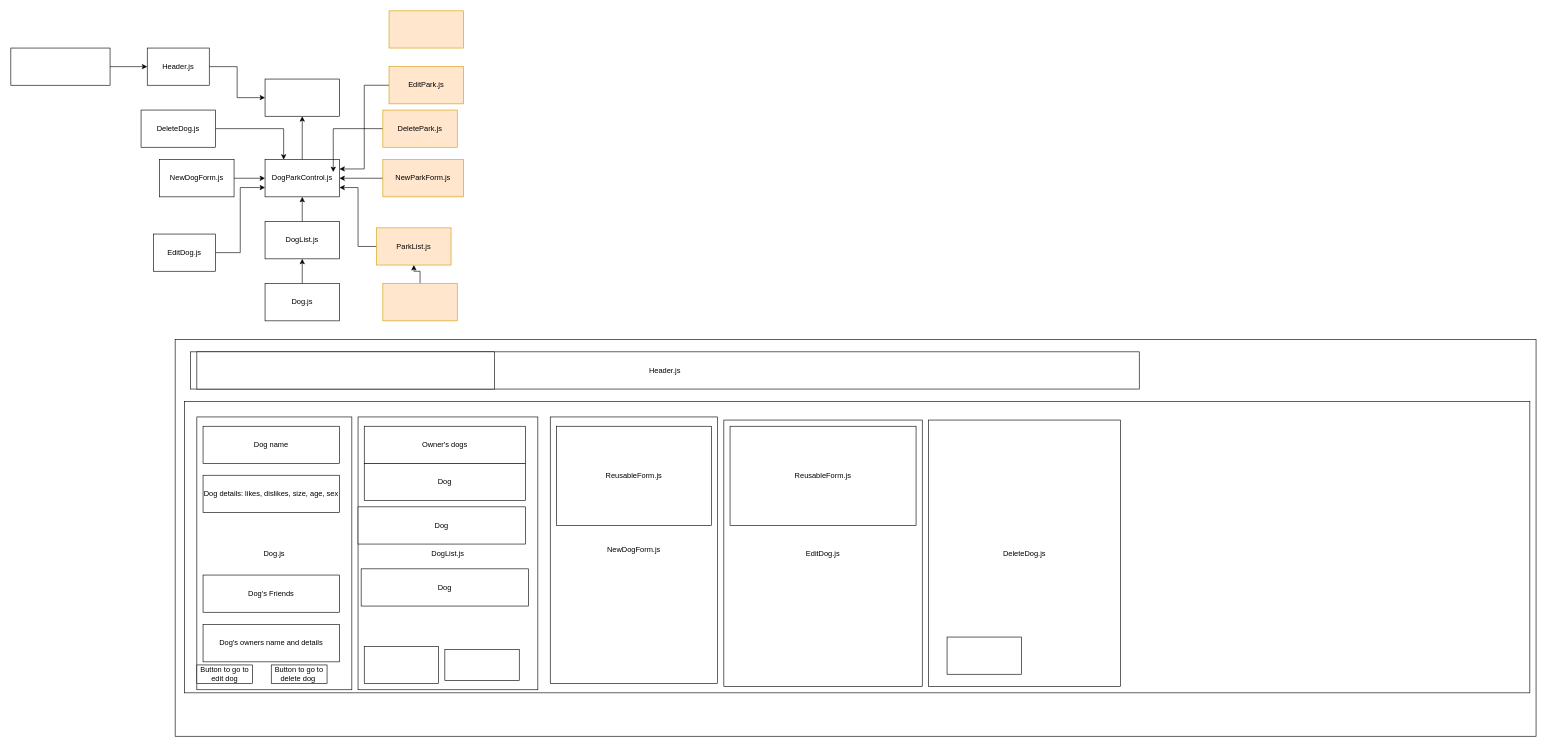
Some shapes in this 1547 by 747 pixel diagram are drawn without their labels. Each missing label, with the centre of its shape:
"App.js" belongs at point 301,97.
"Button that lets you delete your dog's profile" belongs at point 983,655.
"Button to add dog" belongs at point 481,664.
"Button to check into park" belongs at point 401,665.
"NavBar.js" belongs at point 345,370.
"NavBar.js?" belongs at point 60,66.
"Parks.js" belongs at point 419,302.
"These would be part of the stretch goal, making it further than one park" belongs at point 425,29.
